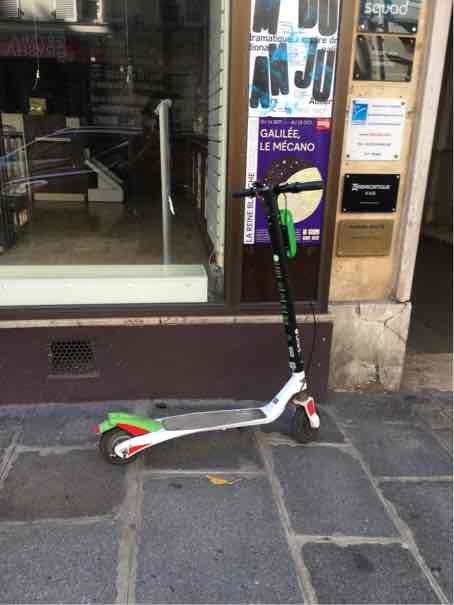scooter: (90, 165, 337, 480)
